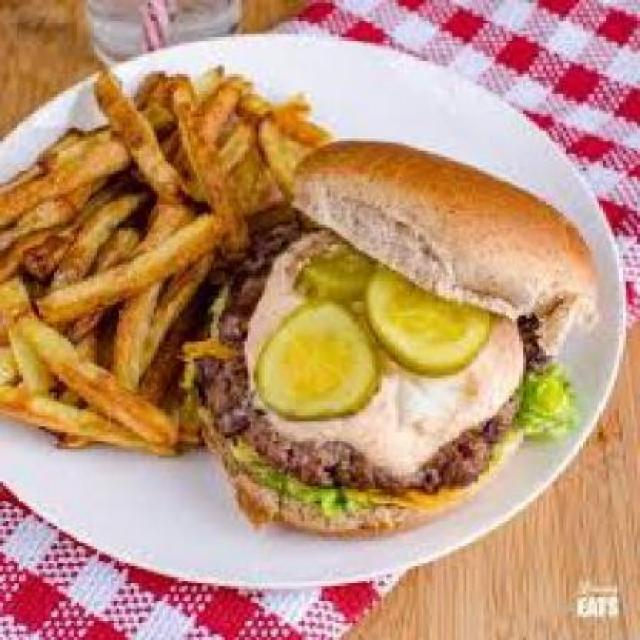french fries: (2, 54, 310, 455)
hamburger: (185, 136, 606, 541)
